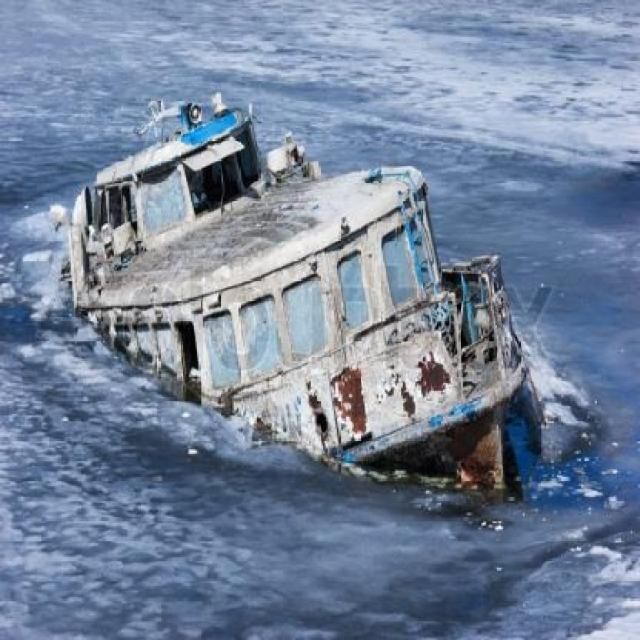corrosion: (85, 124, 541, 490)
